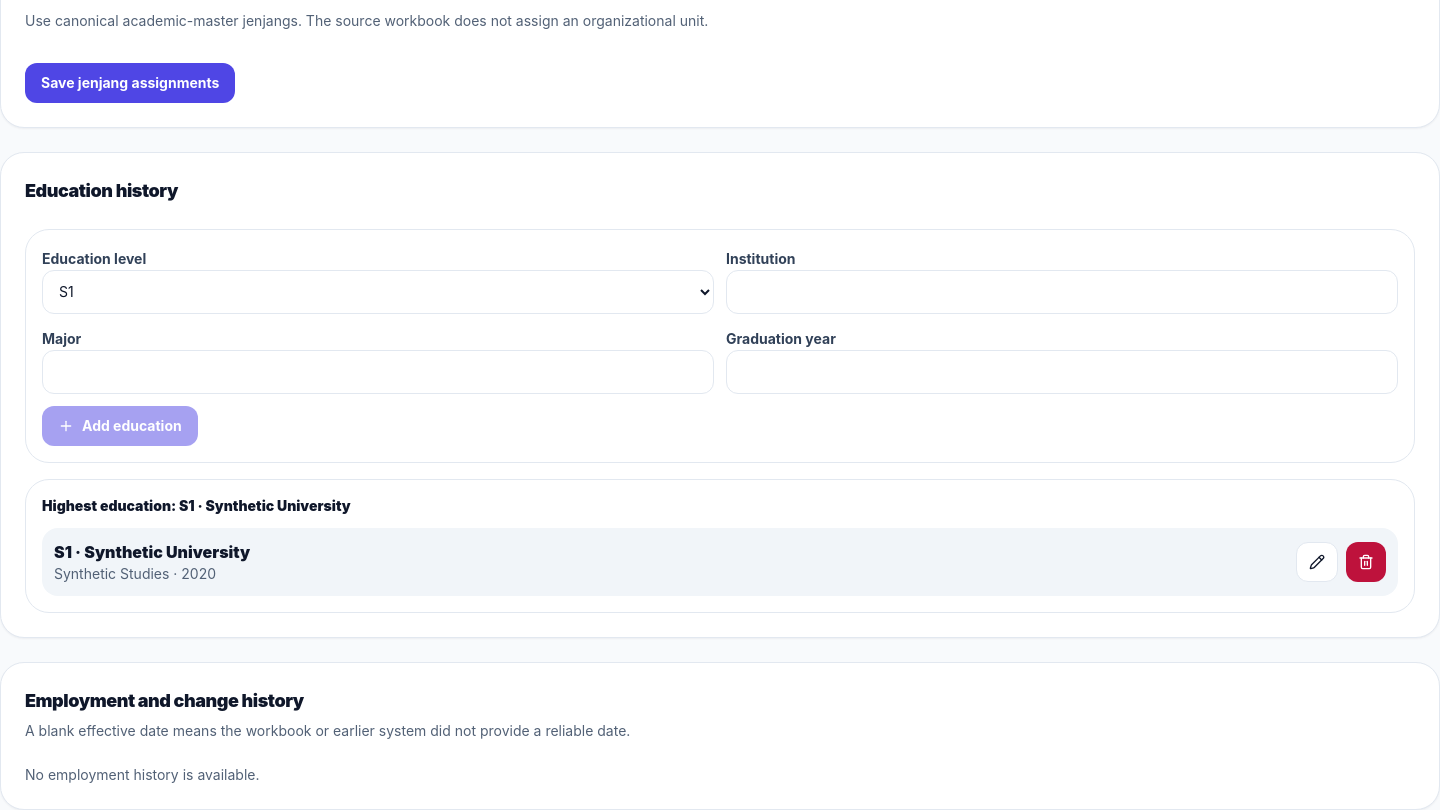
Test: Staff Detail education deletion › opens an accessible confirmation without invoking delete
(page scrolled)
Click the button named "Delete education record S1": (1366, 562) [1346,542,1386,582]
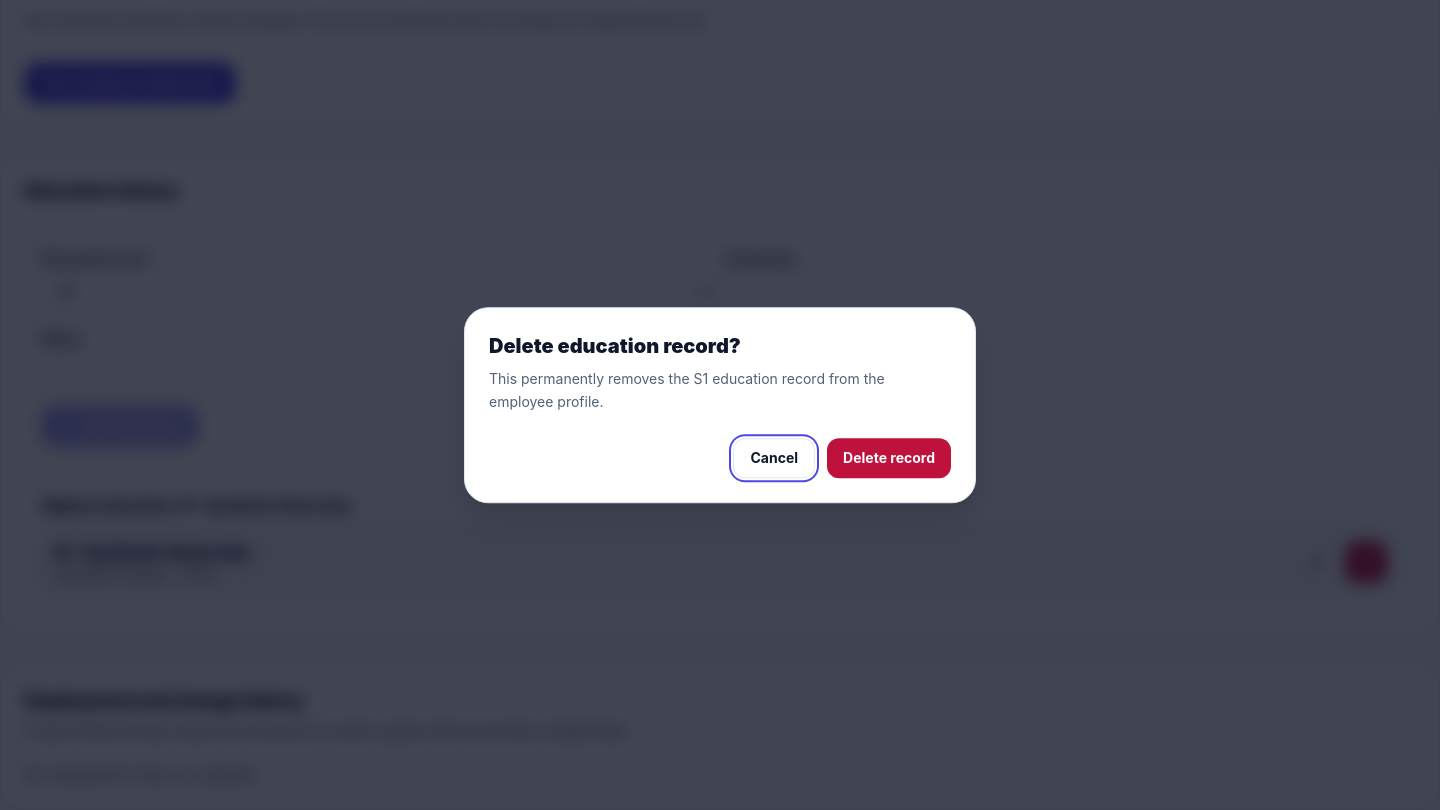
Expected: the dialog is shown, [464,307,976,503]
Expected: the text "Delete education record?" is shown, [489,334,741,358]
Expected: the text "S1 education record" is shown, [489,370,885,410]
